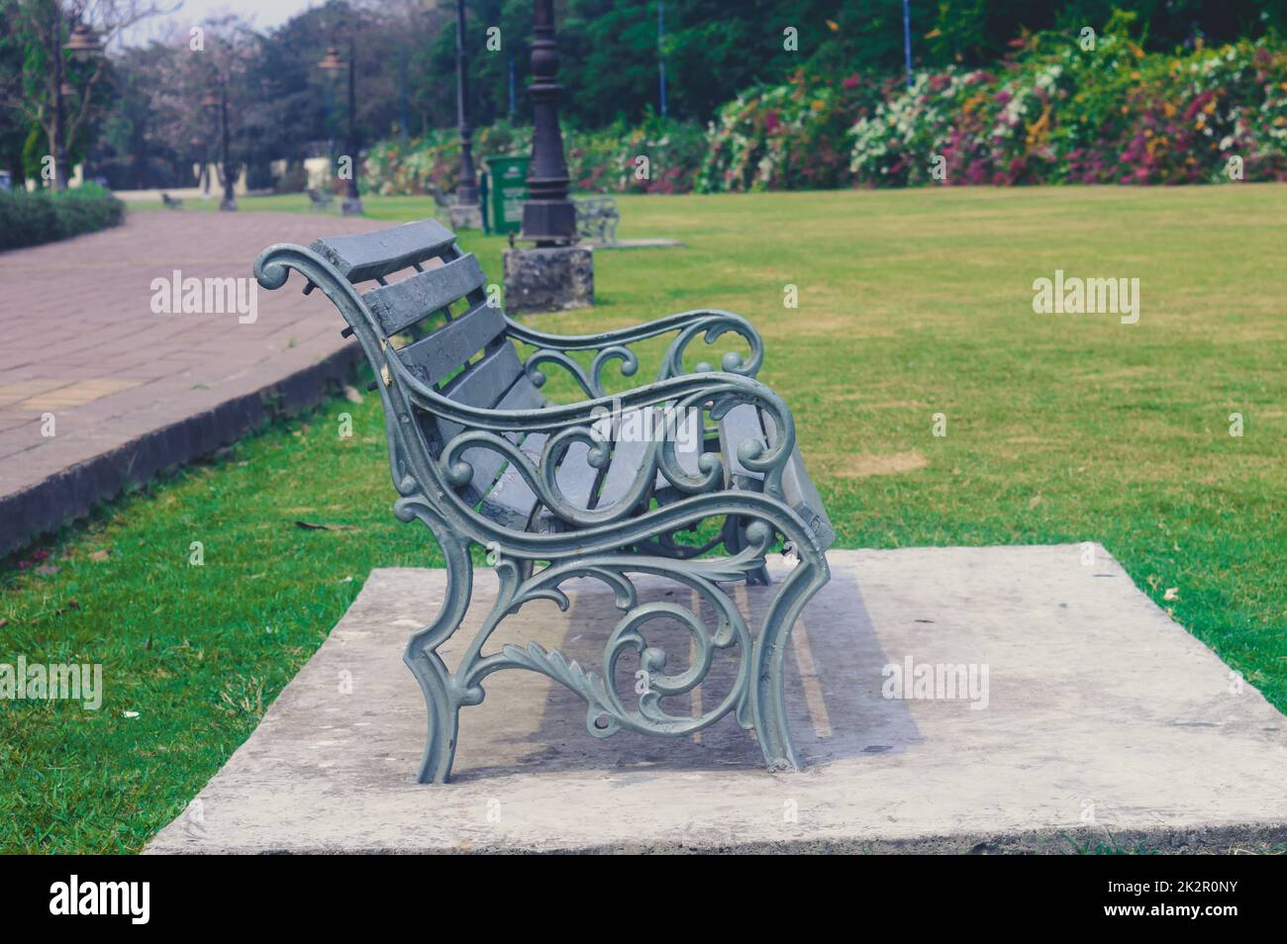Chair: (240, 203, 845, 780)
Lamp: (309, 10, 385, 217), (32, 8, 99, 213)
